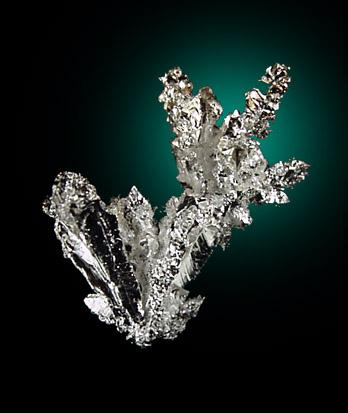silver: (41, 63, 309, 347)
